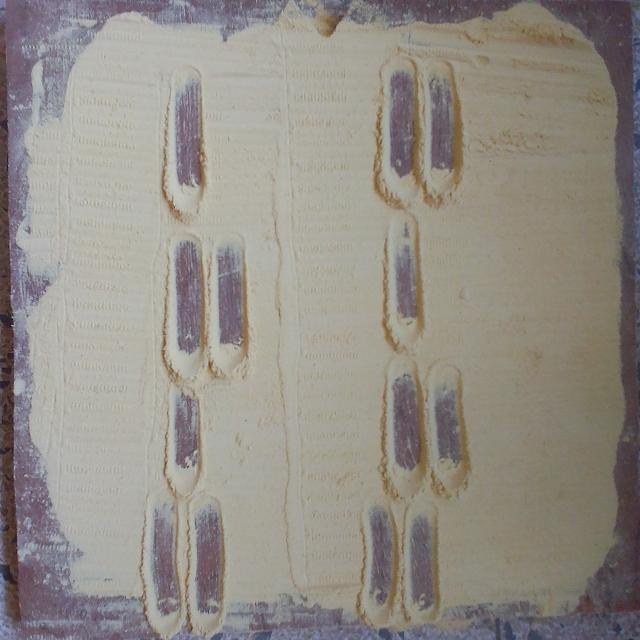double: (375, 55, 470, 175), (162, 235, 254, 353), (378, 362, 468, 470), (138, 505, 224, 612), (360, 506, 442, 612)
single: (382, 213, 436, 325), (162, 70, 206, 190), (166, 387, 208, 480)
